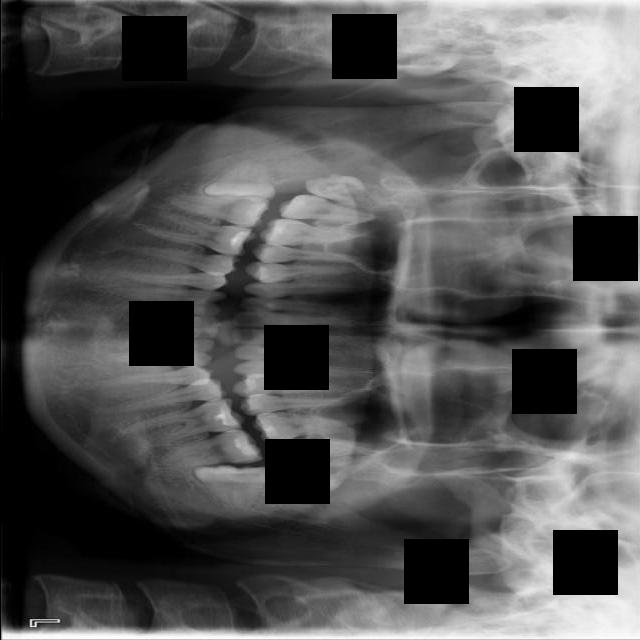3M ESPE Implant: (300, 164, 395, 217)
52: (210, 417, 267, 477), (190, 393, 247, 442), (207, 214, 258, 265), (268, 434, 316, 472), (253, 411, 298, 443), (232, 373, 280, 397), (242, 394, 279, 416), (234, 345, 273, 360), (241, 297, 280, 312)
73: (30, 611, 42, 617)
BioHorizons Implant: (271, 437, 377, 469)
BioLife Implant: (283, 449, 394, 500)
Biomet 3i Implant: (191, 463, 271, 512)
Blue Sky Bio Implant: (161, 427, 262, 472)
Caries: (276, 193, 374, 223)
Implant: (166, 190, 270, 229)
Keystone Dental Implant: (203, 155, 277, 203)
